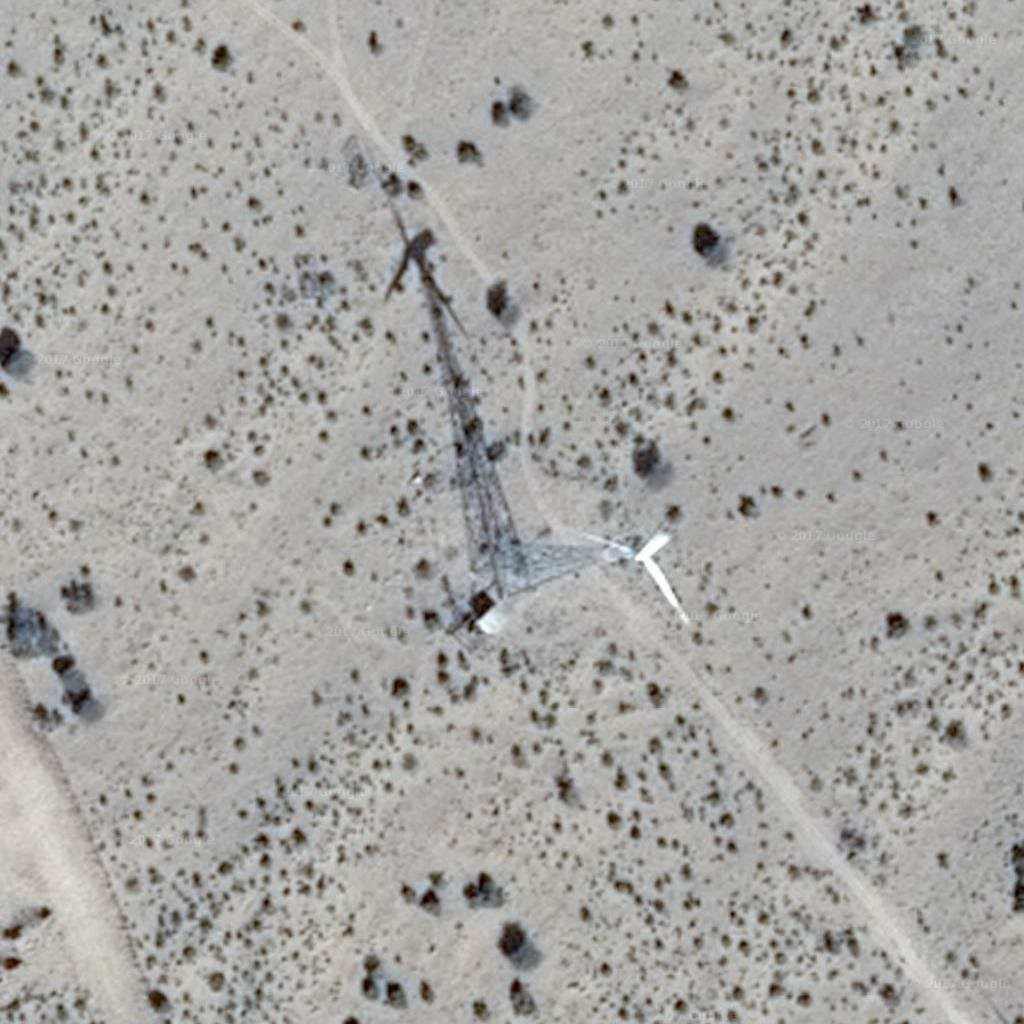Windmill: (375, 187, 535, 574)
